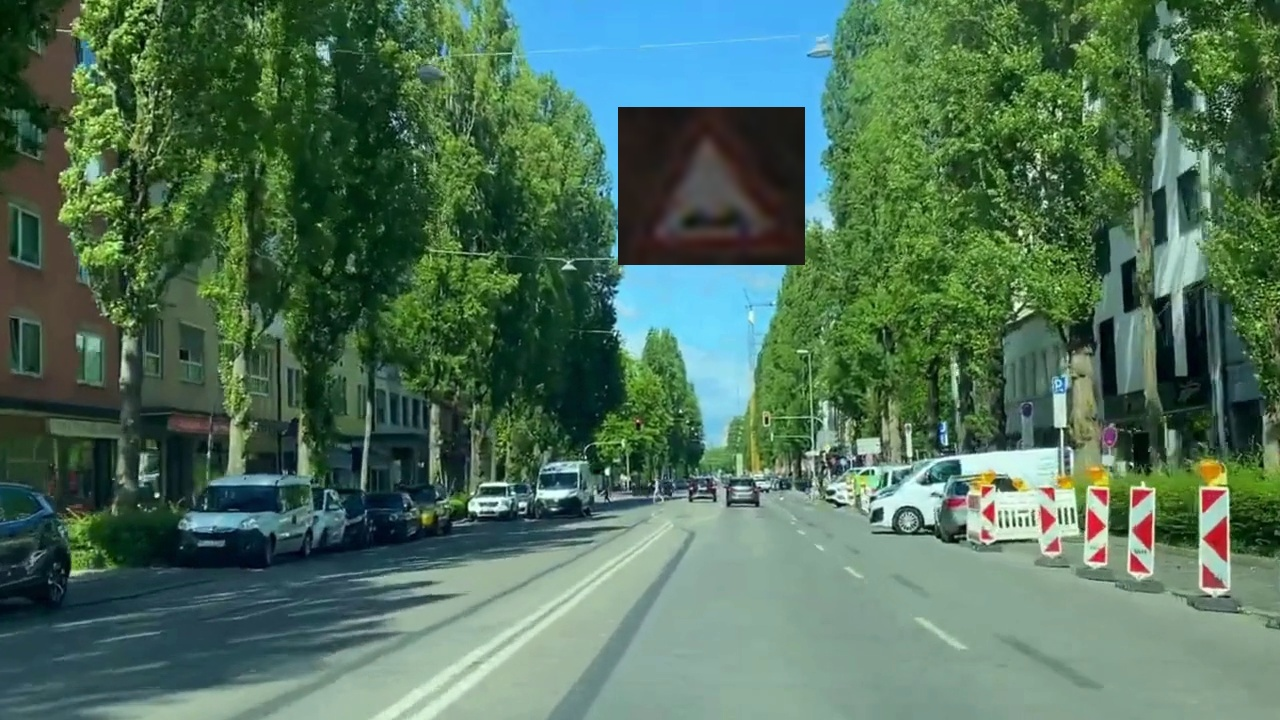Bumpy road: (618, 107, 805, 265)
